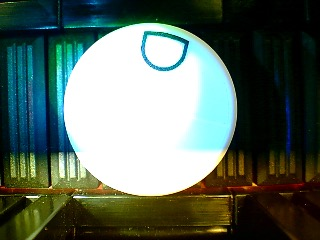MIPO1: (63, 22, 238, 197)
